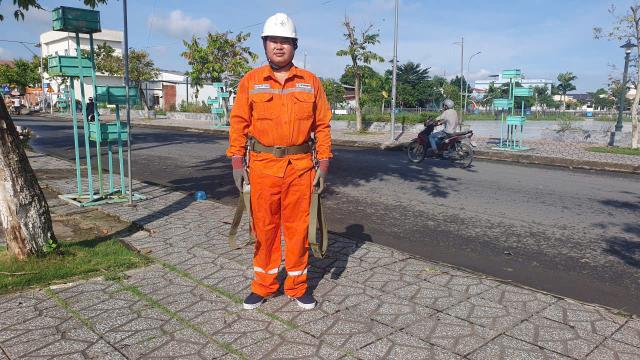gloves: (221, 151, 253, 196), (304, 156, 331, 194)
harness: (234, 125, 326, 171)
helmet: (257, 6, 303, 45)
shoes: (238, 278, 278, 315), (283, 280, 319, 314)
